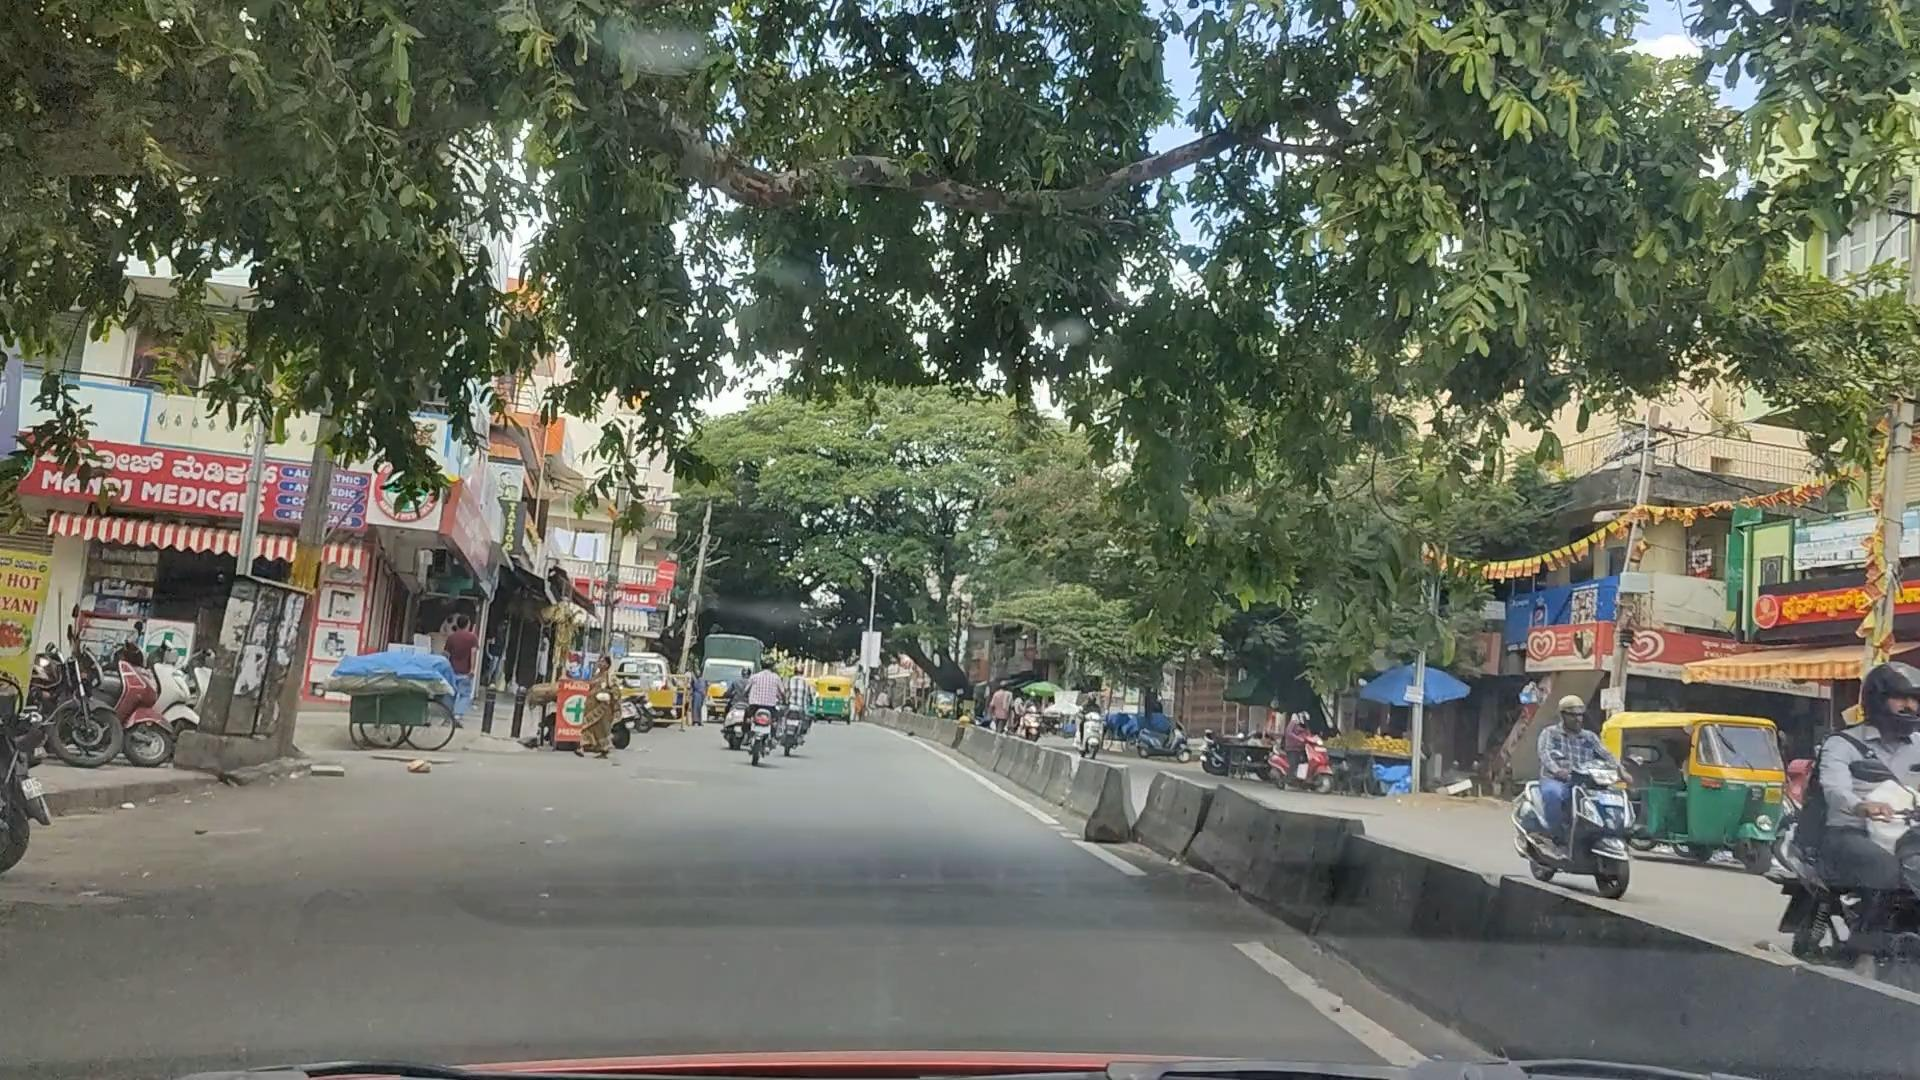RoadDamages: (5, 837, 183, 947)
